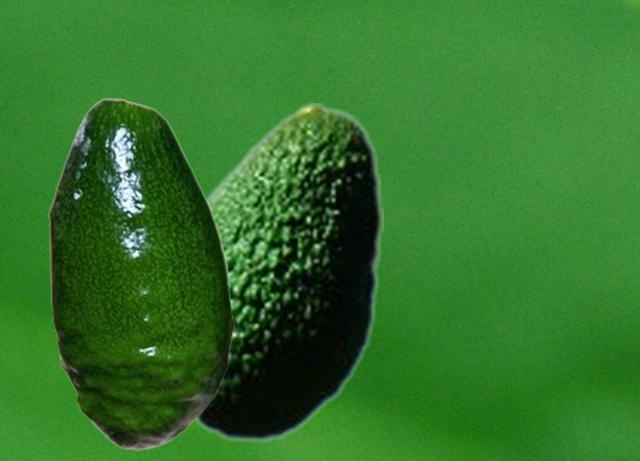avocado: (48, 97, 233, 449), (191, 103, 382, 442)
